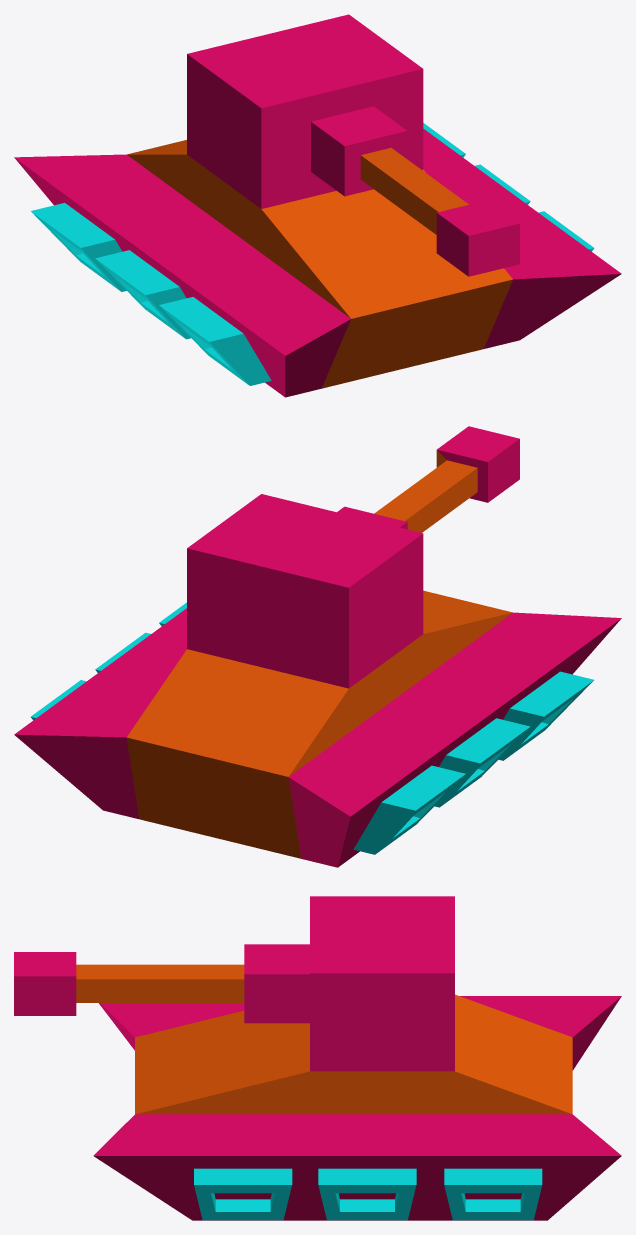
Rendered from Tank (2).fbx.
3 views of the same model, one above another, from view 1: azimuth 30°, elevation 25°; view 2: azimuth 150°, elevation 25°; view 3: azimuth 270°, elevation 25° (orthographic). The views are drawn at different scales.
Parts seen in each view (by area): view 1: Cube.001; view 2: Cube.001; view 3: Cube.001.
Part boxes in pixels (x1=…): Cube.001: x1=14, y1=14, x2=621, y2=397; Cube.001: x1=14, y1=426, x2=621, y2=867; Cube.001: x1=14, y1=896, x2=621, y2=1220.
Size of the model in its own units: 882 by 517 by 1238.
